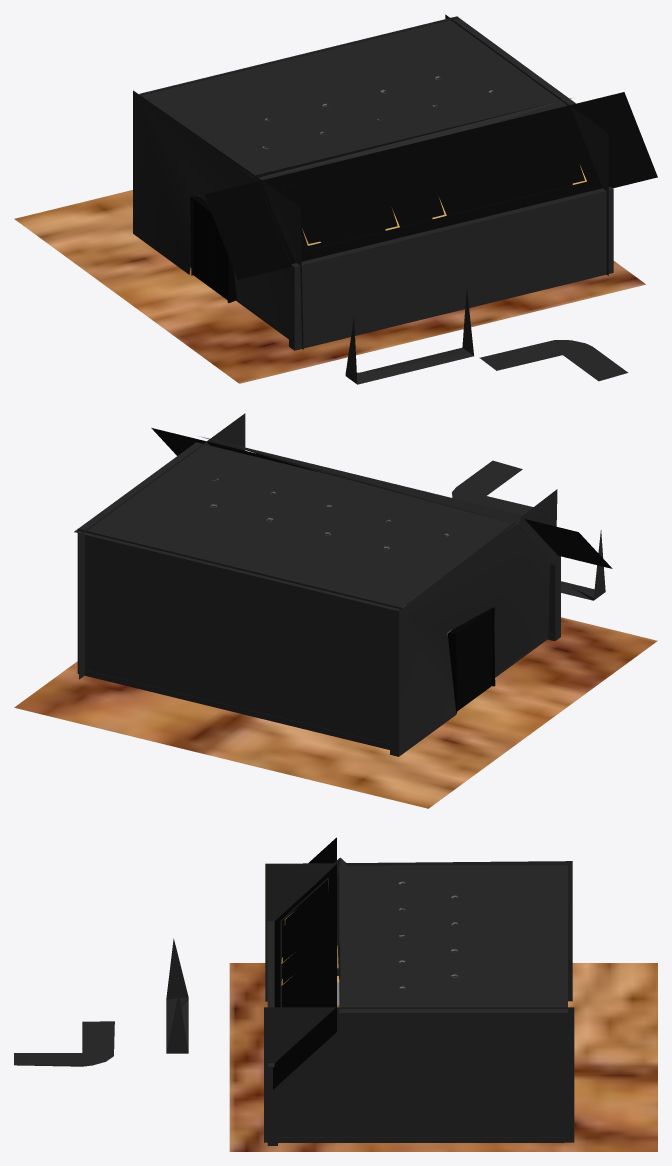
Rendered from OfficeOBJ.obj.
3 views of the same model, one above another, from view 1: azimuth 30°, elevation 25°; view 2: azimuth 150°, elevation 25°; view 3: azimuth 270°, elevation 25° (orthographic). The views are drawn at different scales.
Parts seen in each view (by area): view 1: pPlane3, pPlane2, pCube3, pPlane1, polySurface10, pCube21, polySurface2 group1, pCube20, pCube1, group2 pCube27, group2 pCube26, pCube2 (+1 smaller); view 2: pCube2, pPlane2, pPlane1, polySurface10, polySurface2 group1, pPlane3, pCube21, pCube29, pCube1, group2 pCube26, group2 pCube27, pCube3 (+2 smaller); view 3: pCube1, pPlane2, pPlane1, pPlane3, polySurface10, pCube21, pCube20, pCube30, pCube3, polySurface2 group1.
Boxes of the visible parts, bbox=[...] form: pPlane3: bbox=[204, 92, 657, 279]; pPlane2: bbox=[139, 16, 575, 180]; pCube3: bbox=[289, 186, 613, 350]; pPlane1: bbox=[14, 190, 645, 383]; polySurface10: bbox=[133, 90, 303, 349]; pCube21: bbox=[479, 340, 628, 381]; polySurface2 group1: bbox=[252, 98, 587, 275]; pCube20: bbox=[345, 287, 473, 384]; pCube1: bbox=[445, 14, 608, 275]; group2 pCube27: bbox=[193, 200, 211, 288]; group2 pCube26: bbox=[211, 214, 227, 299]; pCube2: bbox=[139, 17, 458, 197]; pCube2: bbox=[77, 529, 401, 744]; pPlane2: bbox=[74, 442, 515, 610]; pPlane1: bbox=[14, 605, 657, 808]; polySurface10: bbox=[390, 489, 557, 756]; polySurface2 group1: bbox=[201, 436, 560, 566]; pPlane3: bbox=[151, 428, 612, 568]; pCube21: bbox=[452, 460, 533, 515]; pCube29: bbox=[84, 670, 390, 749]; pCube1: bbox=[79, 413, 245, 679]; group2 pCube26: bbox=[473, 610, 492, 698]; group2 pCube27: bbox=[457, 623, 473, 711]; pCube3: bbox=[548, 556, 560, 640]; pCube1: bbox=[264, 1007, 574, 1142]; pPlane2: bbox=[339, 865, 567, 1012]; pPlane1: bbox=[229, 963, 657, 1151]; pPlane3: bbox=[273, 837, 336, 1089]; polySurface10: bbox=[265, 861, 572, 1001]; pCube21: bbox=[14, 1021, 114, 1066]; pCube20: bbox=[166, 938, 188, 1053]; pCube30: bbox=[278, 1137, 562, 1142]; pCube3: bbox=[267, 921, 277, 1145]; polySurface2 group1: bbox=[280, 857, 347, 1007].
Size of the model in its own units: 23.43 by 7.87 by 31.15.
